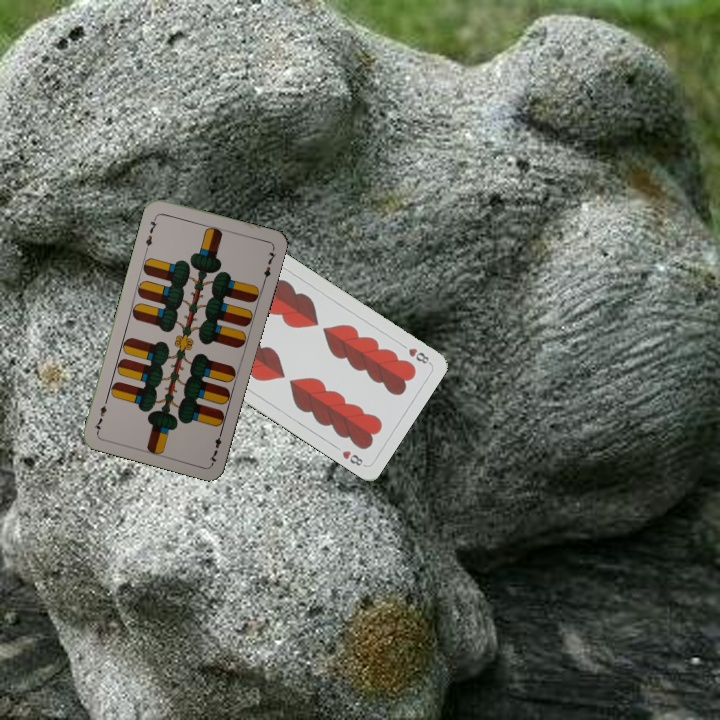E7: (205, 426, 225, 466), (141, 212, 160, 252)
H8: (404, 344, 433, 366)
